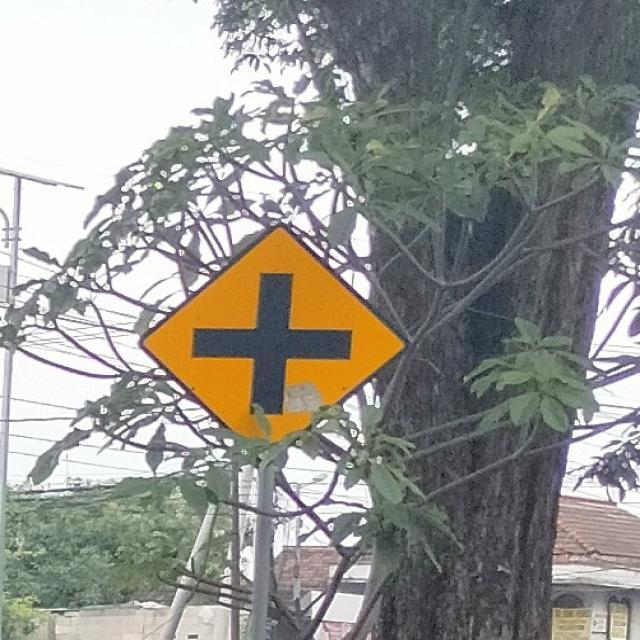Persimpangan 4: (136, 226, 414, 464)
